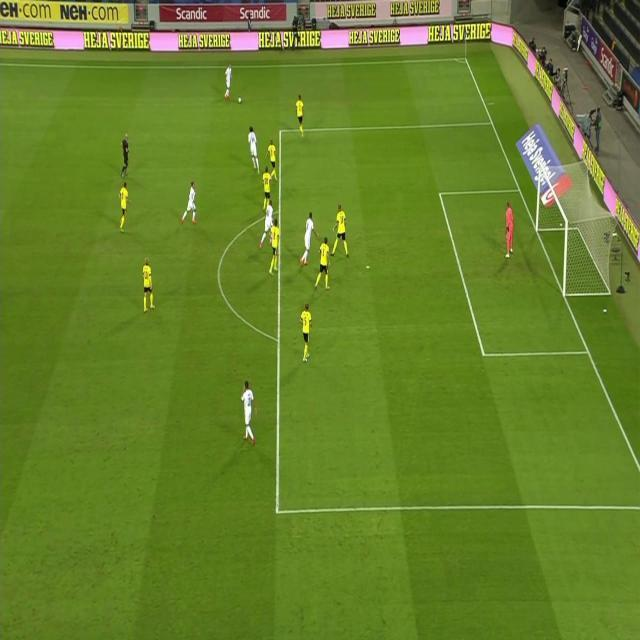ball: (237, 94, 243, 104)
goalkeeper: (502, 199, 516, 260)
player: (297, 209, 320, 266), (238, 379, 257, 447), (330, 201, 351, 259), (313, 235, 333, 290), (298, 300, 314, 362), (140, 255, 157, 313), (267, 216, 282, 276), (180, 180, 198, 227), (259, 199, 274, 249), (246, 124, 261, 173), (117, 181, 131, 230), (265, 138, 279, 180), (260, 166, 274, 207), (294, 93, 306, 136), (223, 62, 233, 100)
referee: (119, 132, 131, 178)
